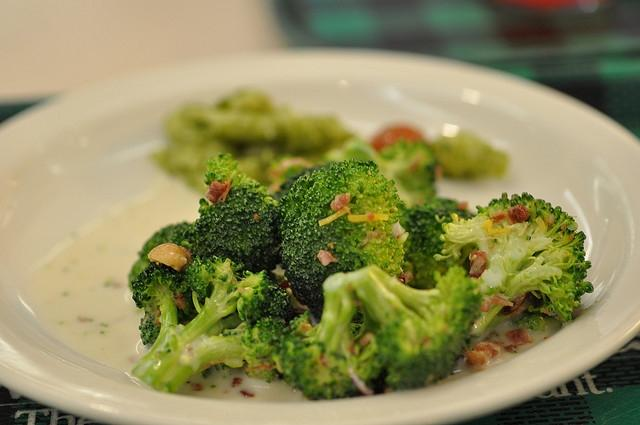broccoli: (131, 256, 295, 392), (278, 158, 407, 321), (433, 192, 594, 322), (346, 264, 483, 390), (272, 272, 389, 400), (184, 152, 282, 280), (402, 198, 479, 290), (128, 222, 195, 292), (379, 136, 439, 192)
tomato: (372, 126, 424, 152)
